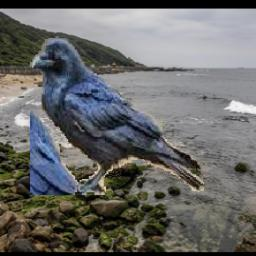Crow: (31, 37, 210, 196)
